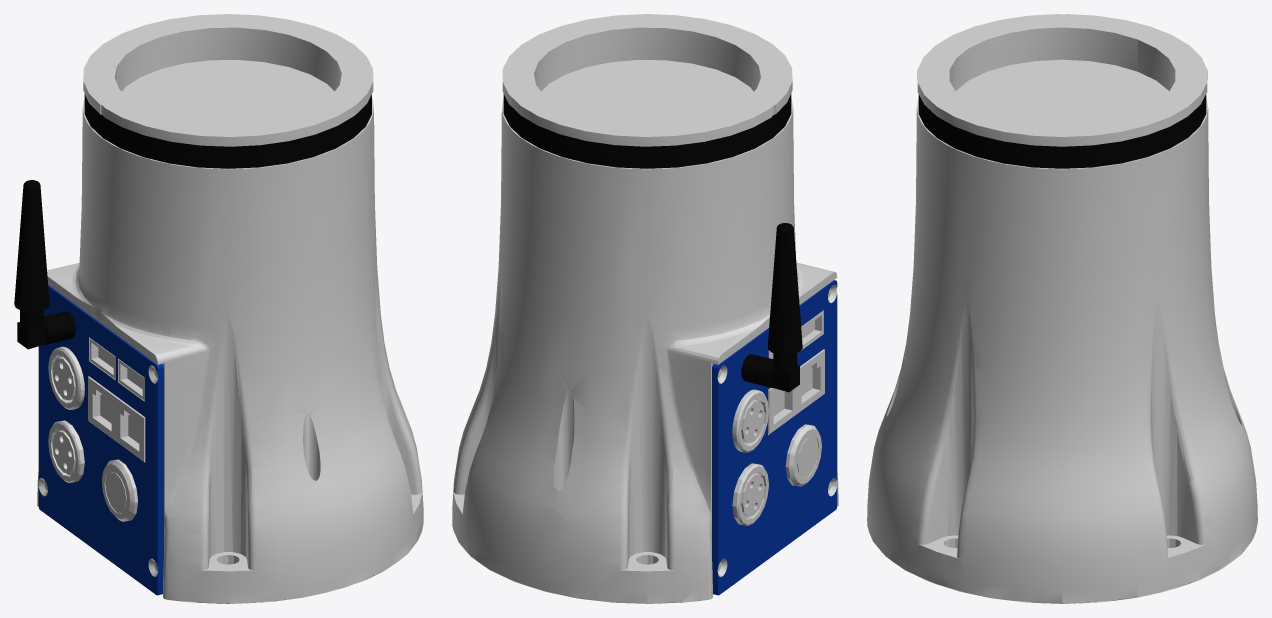
The picture shows the model from 3 angles, left to right: view 1: azimuth 30°, elevation 25°; view 2: azimuth 150°, elevation 25°; view 3: azimuth 270°, elevation 25°; orthographic projection.
Parts seen in each view (by area): view 1: Mesh (×4); view 2: Mesh (×4); view 3: Mesh (×2).
Part boxes in pixels (x1,y1,x2,y2): Mesh (×4): (14, 14, 423, 603); Mesh (×4): (452, 14, 838, 603); Mesh (×2): (867, 14, 1257, 603).
Bounding box in the file's own units: 114 × 110 × 139.
